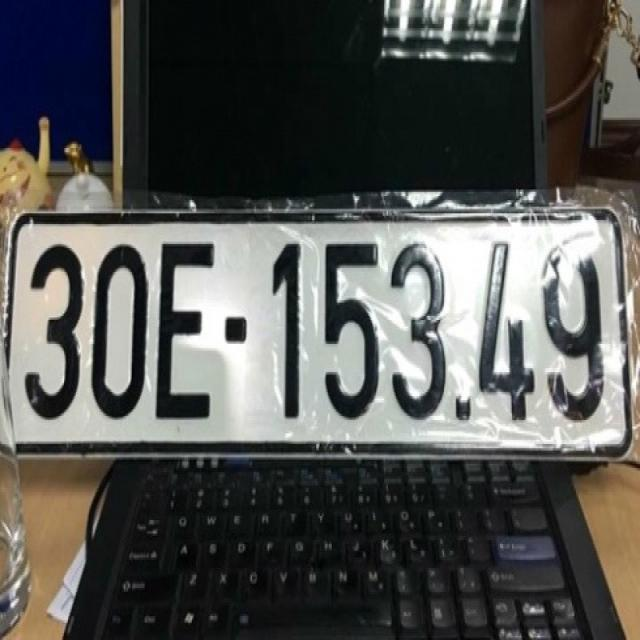0: (87, 238, 148, 421)
1: (262, 236, 310, 423)
3: (386, 234, 450, 426), (22, 237, 85, 423)
4: (471, 234, 538, 426)
5: (318, 232, 382, 422)
9: (540, 228, 608, 427)
E: (152, 235, 219, 424)
